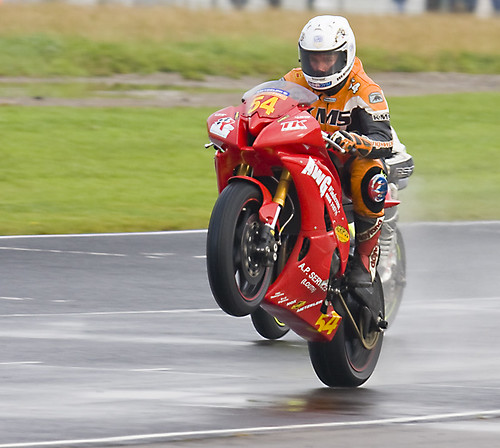helmet: (288, 7, 362, 89)
